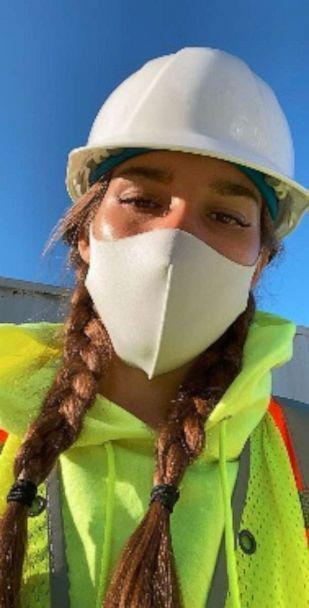helmet: (64, 48, 308, 228)
